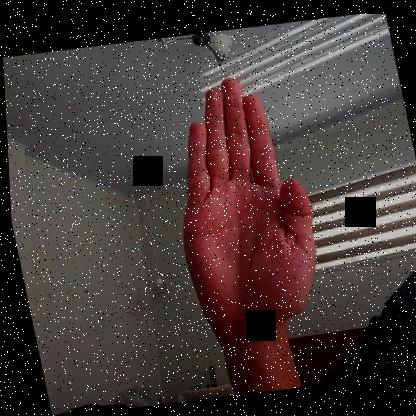B: (147, 65, 333, 336)
